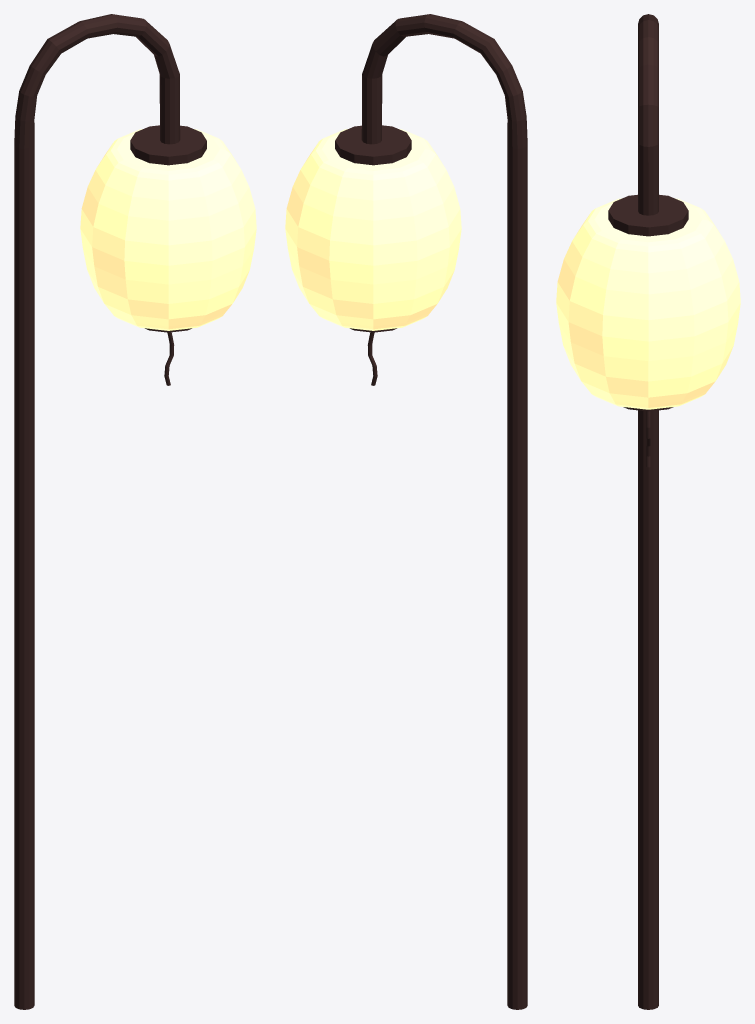
Rendered from lampadaire_jap.fbx.
The picture shows the model from 3 angles, left to right: view 1: azimuth 30°, elevation 25°; view 2: azimuth 150°, elevation 25°; view 3: azimuth 270°, elevation 25°; orthographic projection. The views are drawn at different scales.
Visible parts, largest first — view 1: lampadaire_jap; view 2: lampadaire_jap; view 3: lampadaire_jap.
Boxes of the visible parts, x1,y1,x2,y2 form: lampadaire_jap: (14, 14, 256, 1009); lampadaire_jap: (285, 14, 527, 1009); lampadaire_jap: (556, 14, 740, 1009).
Size of the model in its own units: 326 by 1316 by 217.
